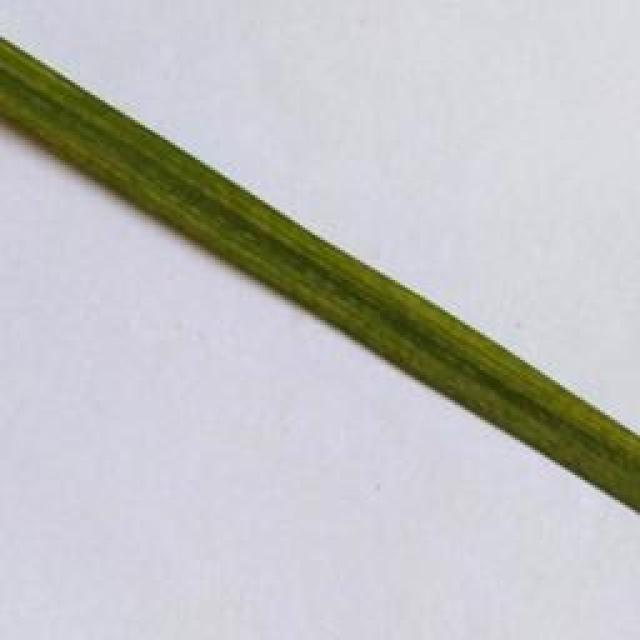Healthy-Plant: (0, 33, 638, 511)
